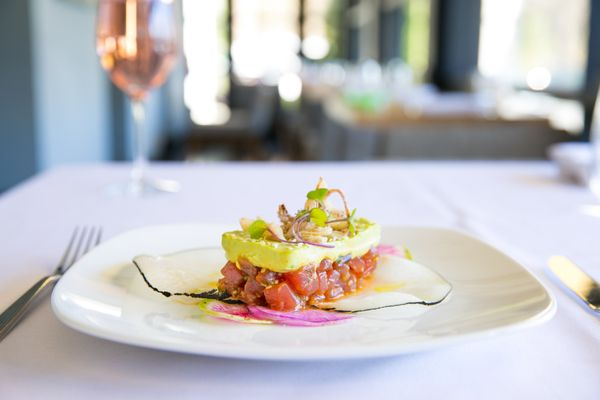burger: (0, 221, 102, 343)
